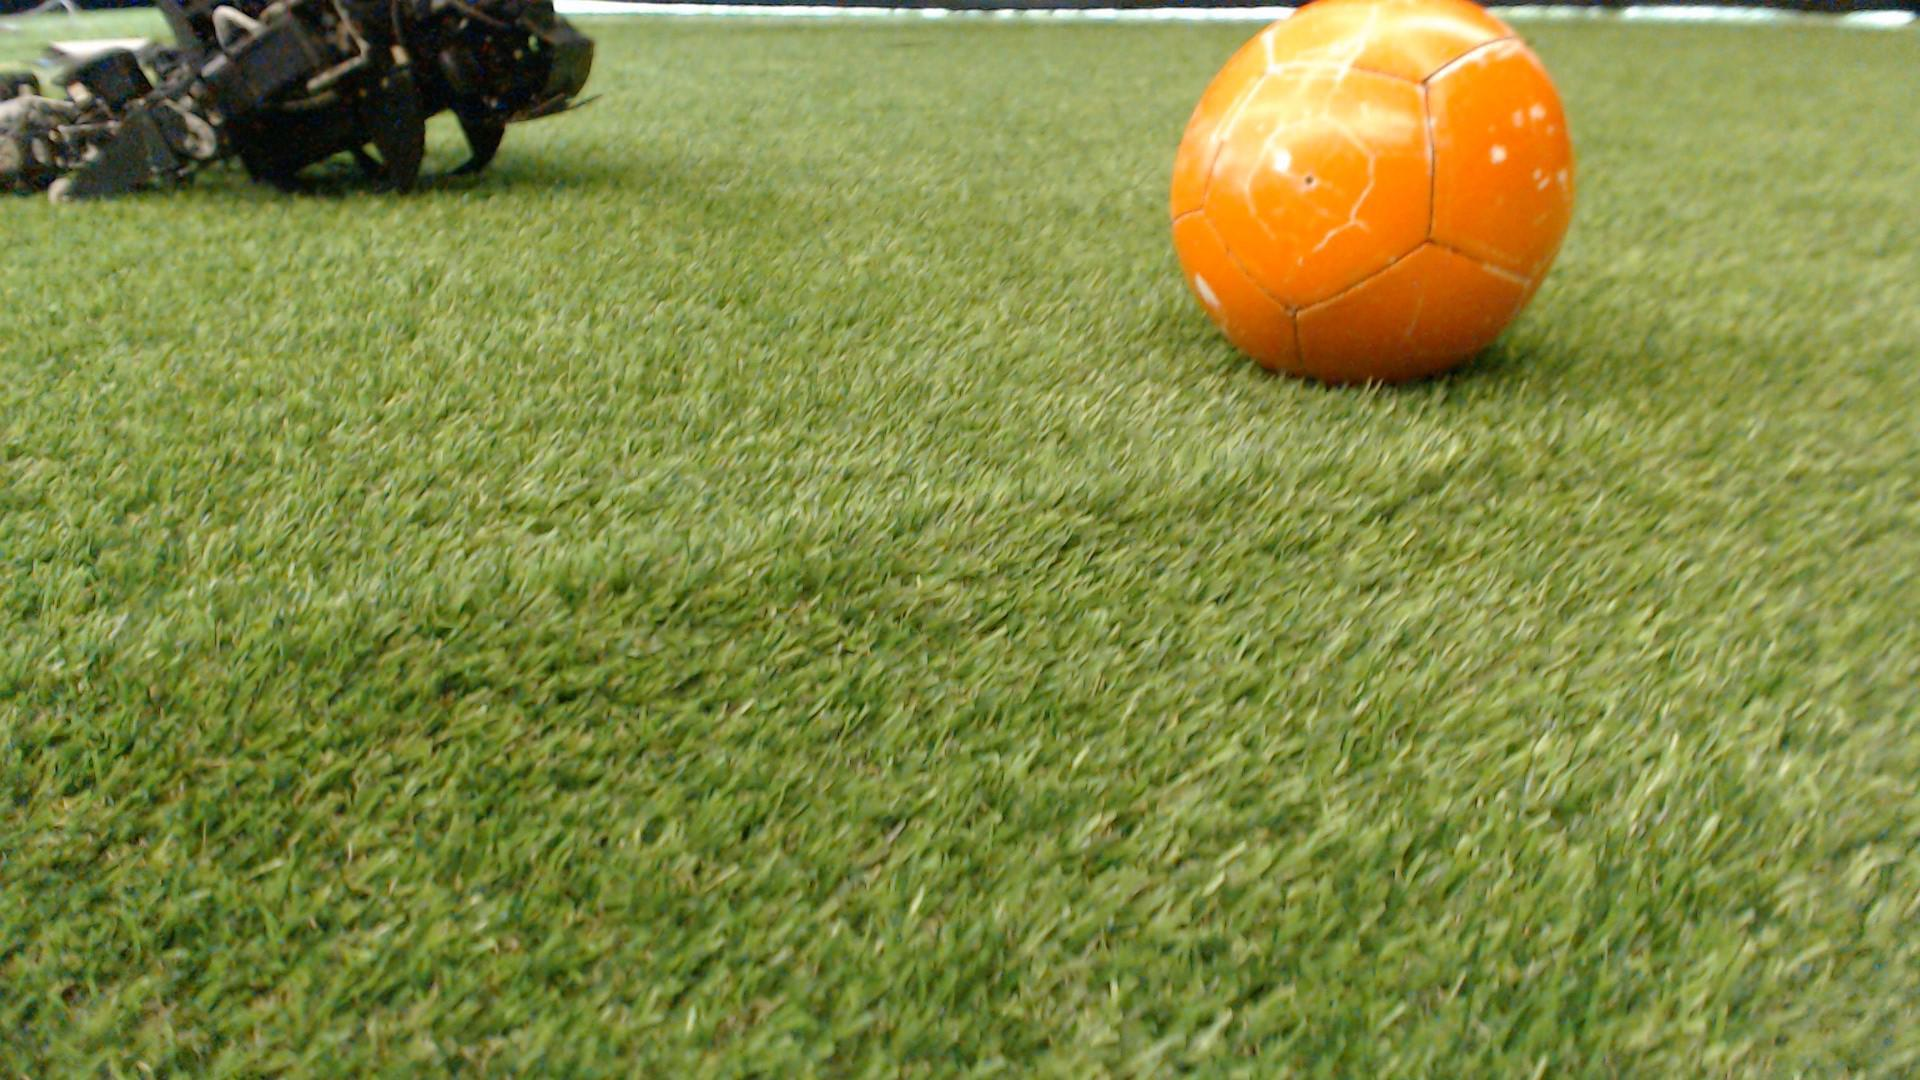bola: (1142, 0, 1614, 406)
